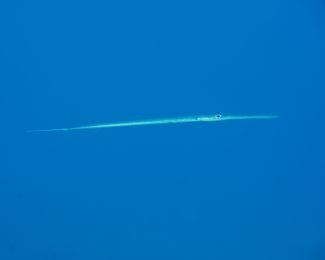Fistularia commersonii: (25, 73, 325, 150)
